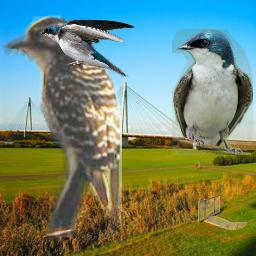Swallow: (172, 29, 253, 155), (39, 18, 135, 77)
Woodpecker: (3, 15, 122, 237)
